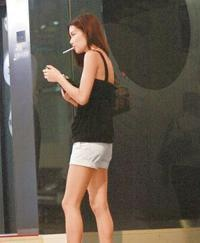person without safety: (65, 13, 117, 243)
